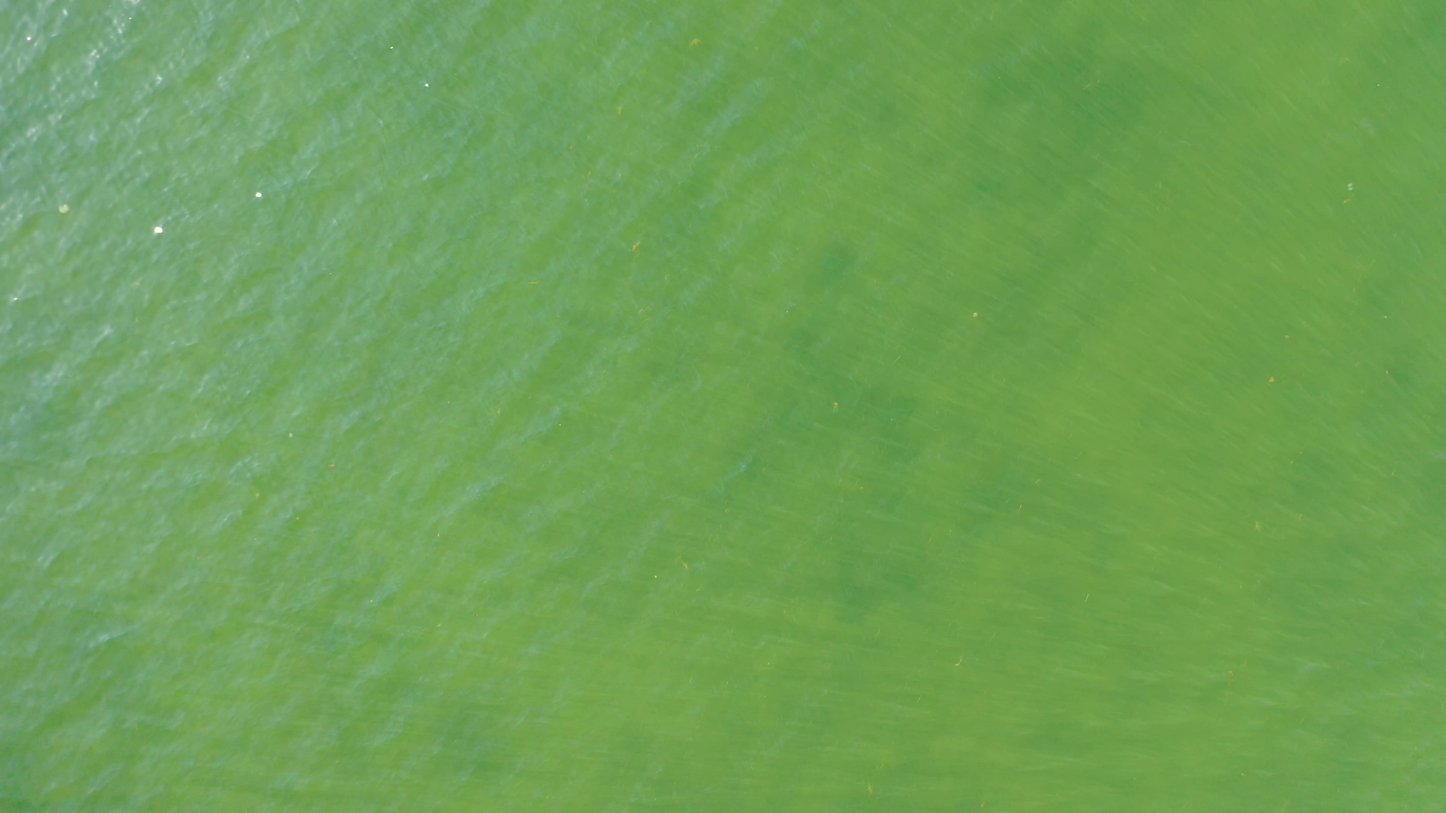meduse: (61, 202, 71, 213), (1346, 182, 1354, 190)
